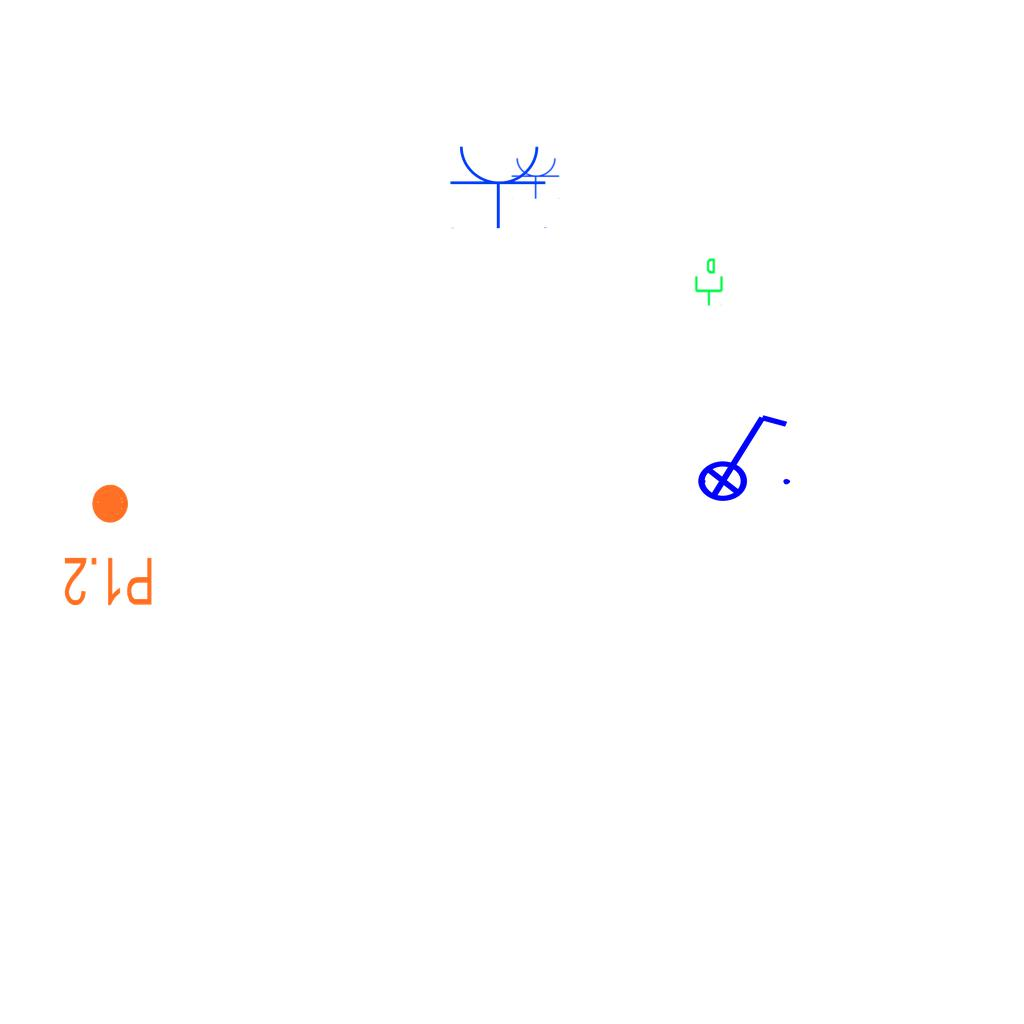Ausschalter_beleuchtet: (684, 407, 796, 503)
Datenanschluss_einfach: (691, 257, 725, 307)
Downlight_LED_Einbauleuchten_Flur: (62, 481, 155, 609)
Schukosteckdose_einfach: (449, 142, 549, 229), (511, 156, 561, 199)
